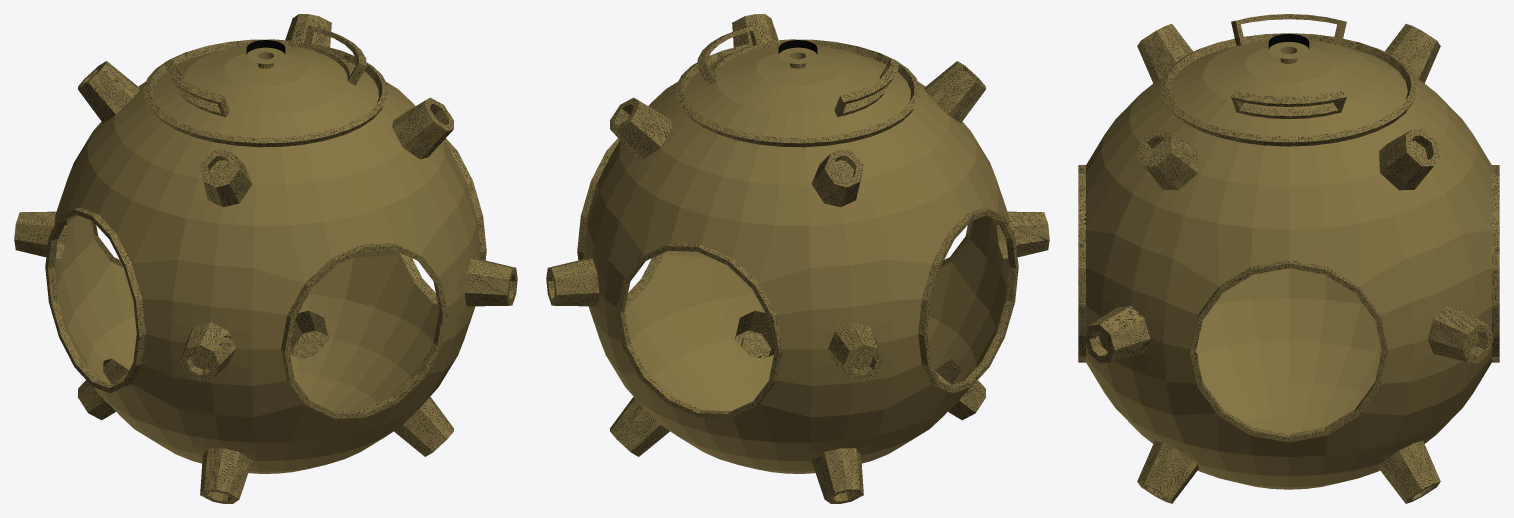
The model's file is submarine.glb.
3 renders of one model, left to right at view 1: azimuth 30°, elevation 25°; view 2: azimuth 150°, elevation 25°; view 3: azimuth 270°, elevation 25°, orthographic. The views are drawn at different scales.
Parts seen in each view (by area): view 1: Sphere; view 2: Sphere; view 3: Sphere.
Part boxes in pixels (x1,y1,x2,y2): Sphere: (14,14,517,503); Sphere: (546,14,1049,503); Sphere: (1078,14,1499,503).
Bounding box in the file's own units: 1.86 × 2.08 × 1.86.
